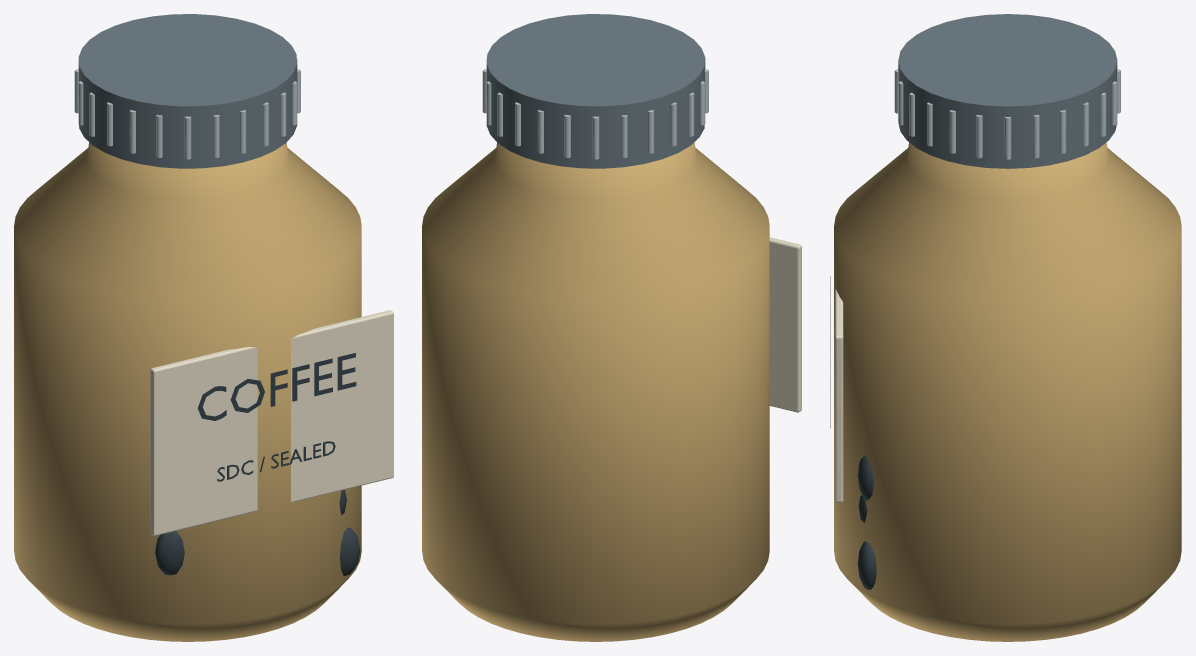
The model's file is loot_coffee.glb.
3 views of the same model, side by side, from view 1: azimuth 30°, elevation 25°; view 2: azimuth 150°, elevation 25°; view 3: azimuth 270°, elevation 25° (orthographic).
Visible parts, largest first — view 1: loot_coffee; view 2: loot_coffee; view 3: loot_coffee.
Boxes of the visible parts, <box> form: loot_coffee: <box>14,14,393,641</box>; loot_coffee: <box>422,14,801,641</box>; loot_coffee: <box>830,14,1181,641</box>.
Bounding box in the file's own units: 0.088 × 0.145 × 0.0889.
